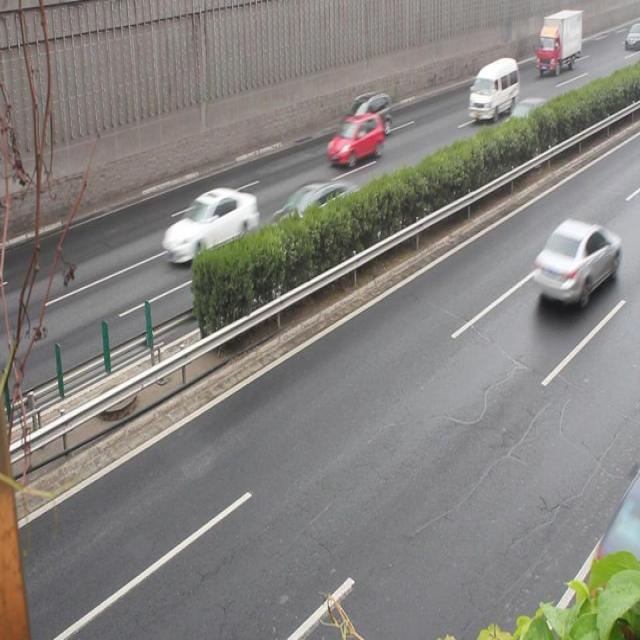bus: (534, 10, 581, 74)
car: (160, 187, 258, 267), (530, 217, 616, 303), (270, 182, 360, 259), (325, 114, 383, 168), (501, 97, 554, 152), (340, 92, 392, 136)
truck: (466, 56, 516, 123)
